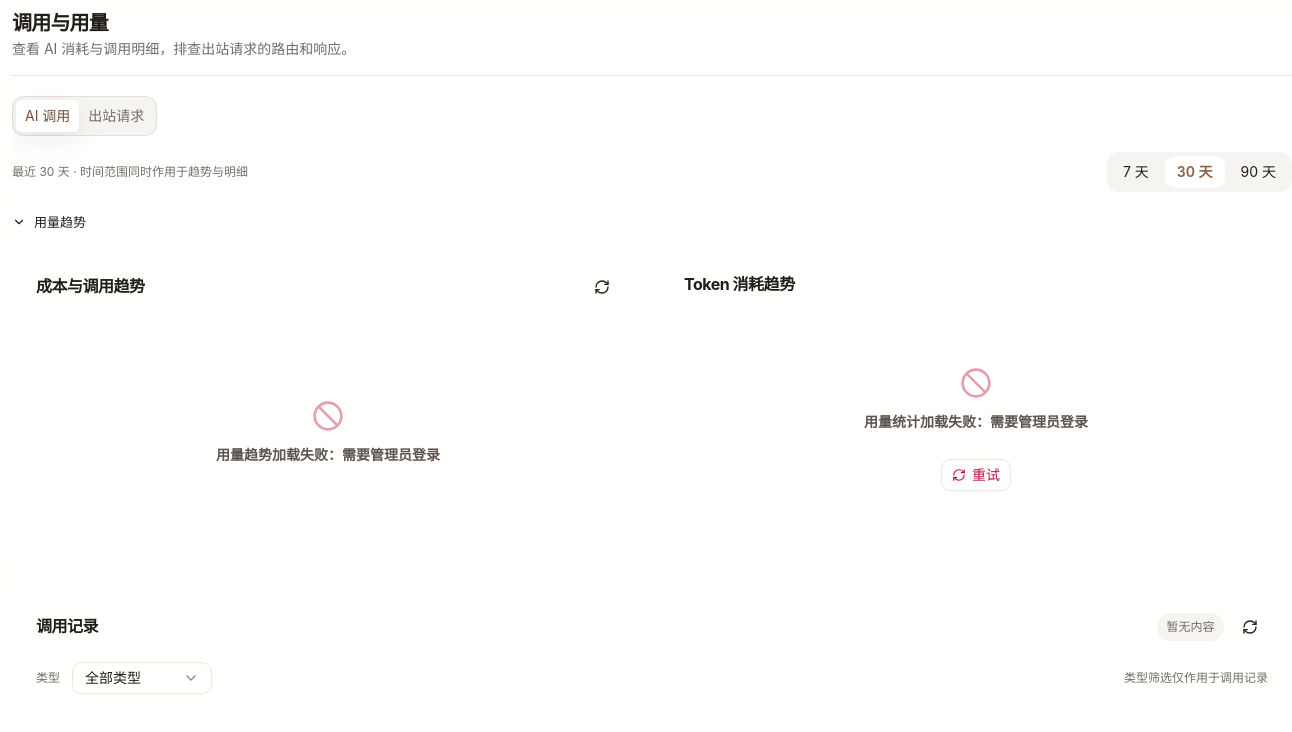
Test case: monitoring navigation › 用量首次读取失败不显示零读数，面板刷新恢复两张趋势
Expected: the text "用量趋势加载失败：需要管理员登录" is shown, [216, 444, 440, 466]
Expected: the text "总调用" is not shown
Click the button named "刷新用量趋势" at {"x": 602, "y": 287}, box [584, 269, 620, 305]
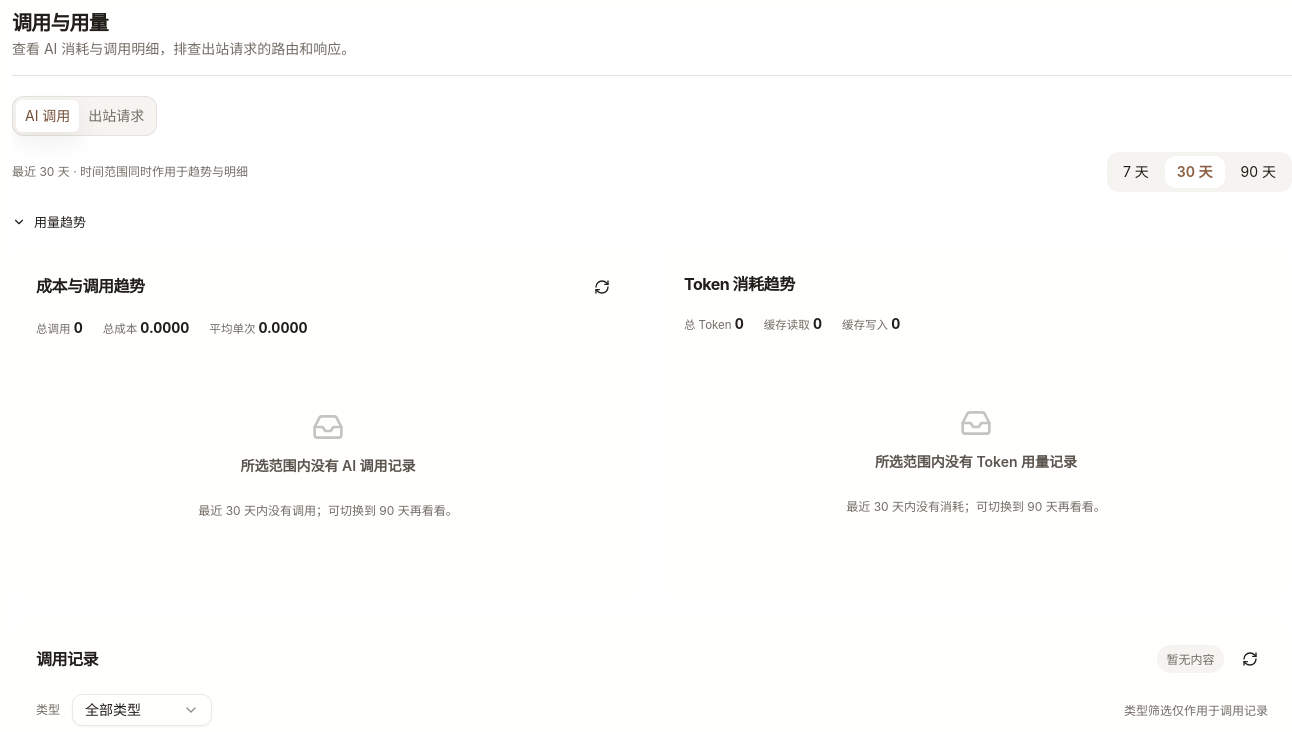
Expected: the text "用量趋势加载失败：需要管理员登录" is gone
Expected: the text "用量统计加载失败：需要管理员登录" is gone
